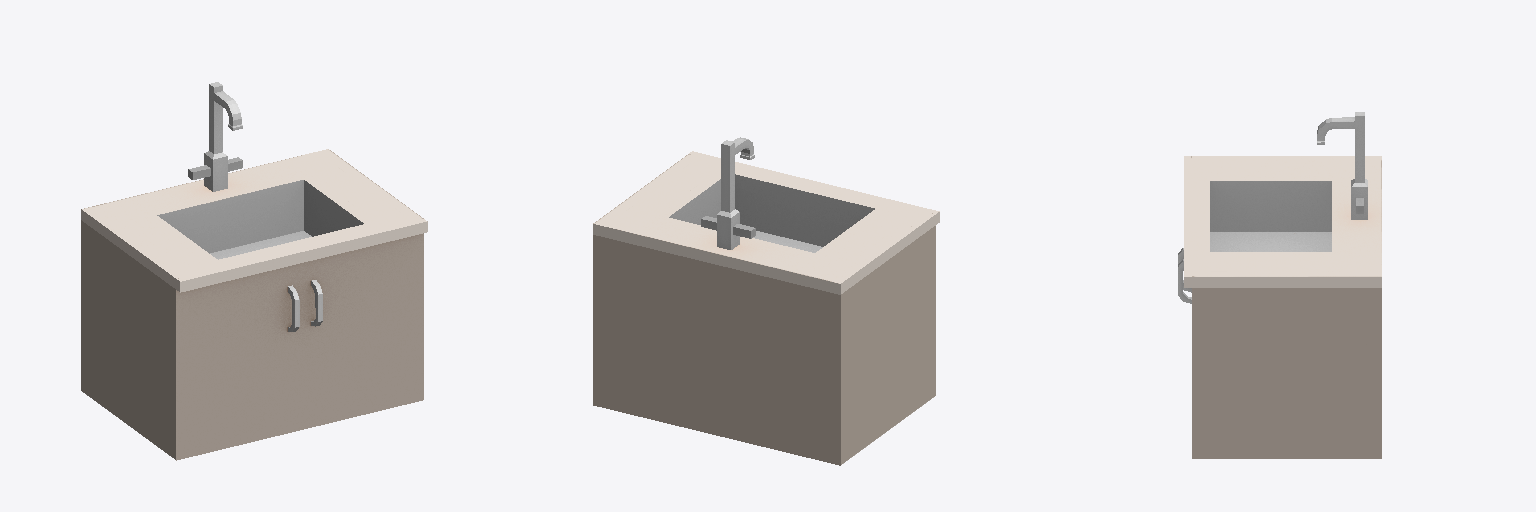
The picture shows the model from 3 angles: view 1: azimuth 30°, elevation 25°; view 2: azimuth 150°, elevation 25°; view 3: azimuth 270°, elevation 25°; orthographic projection.
Parts seen in each view (by area): view 1: Cube.007_Cube.006, Cube; view 2: Cube.007_Cube.006, Cube; view 3: Cube.007_Cube.006, Cube.
Boxes of the visible parts, box(x1,y1,x2,y2) form: Cube.007_Cube.006: box(81, 149, 427, 460); Cube: box(188, 82, 322, 331); Cube.007_Cube.006: box(593, 151, 939, 465); Cube: box(701, 137, 755, 249); Cube.007_Cube.006: box(1184, 156, 1381, 458); Cube: box(1178, 112, 1367, 303).
Bounding box in the file's own units: 3.95 × 4.34 × 2.83.
Materials: 2 (2 with a texture image).